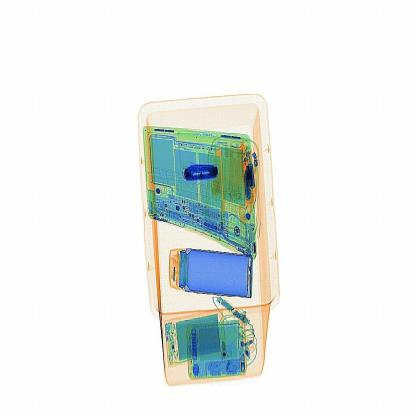scissors: (176, 155, 228, 190)
